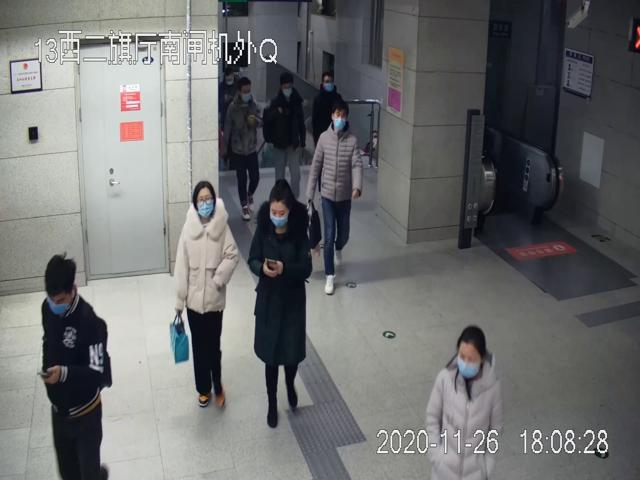person: (39, 253, 113, 480), (248, 178, 312, 427), (174, 180, 241, 406), (308, 103, 361, 296), (222, 76, 263, 223), (262, 72, 307, 205)
